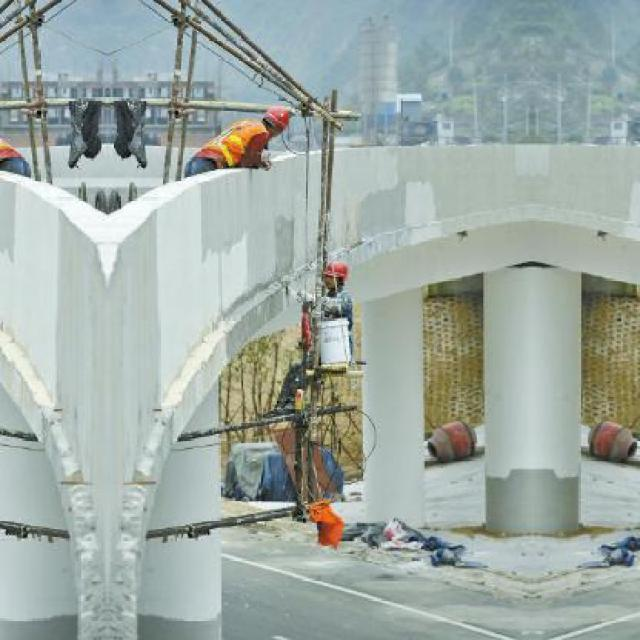Reflective-Jacket: (189, 116, 271, 172)
Safety-Helmet: (258, 98, 298, 142), (317, 253, 355, 284)
